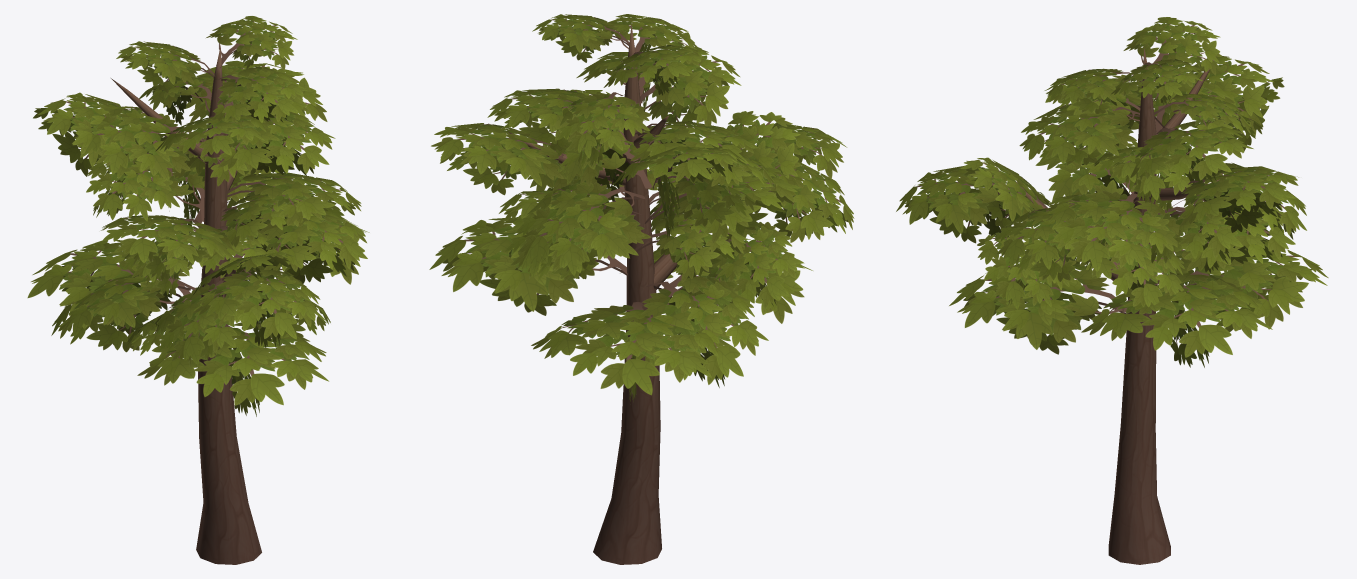
Rendered from oak_1.fbx.
3 views of the same model, side by side, from view 1: azimuth 30°, elevation 25°; view 2: azimuth 150°, elevation 25°; view 3: azimuth 270°, elevation 25° (orthographic). The views are drawn at different scales.
Visible parts, largest first — view 1: Oak-1; view 2: Oak-1; view 3: Oak-1.
Boxes of the visible parts, bbox=[...] form: Oak-1: bbox=[27, 16, 369, 564]; Oak-1: bbox=[429, 14, 854, 564]; Oak-1: bbox=[896, 17, 1328, 564].
Bounding box in the file's own units: 170 × 261 × 213.
